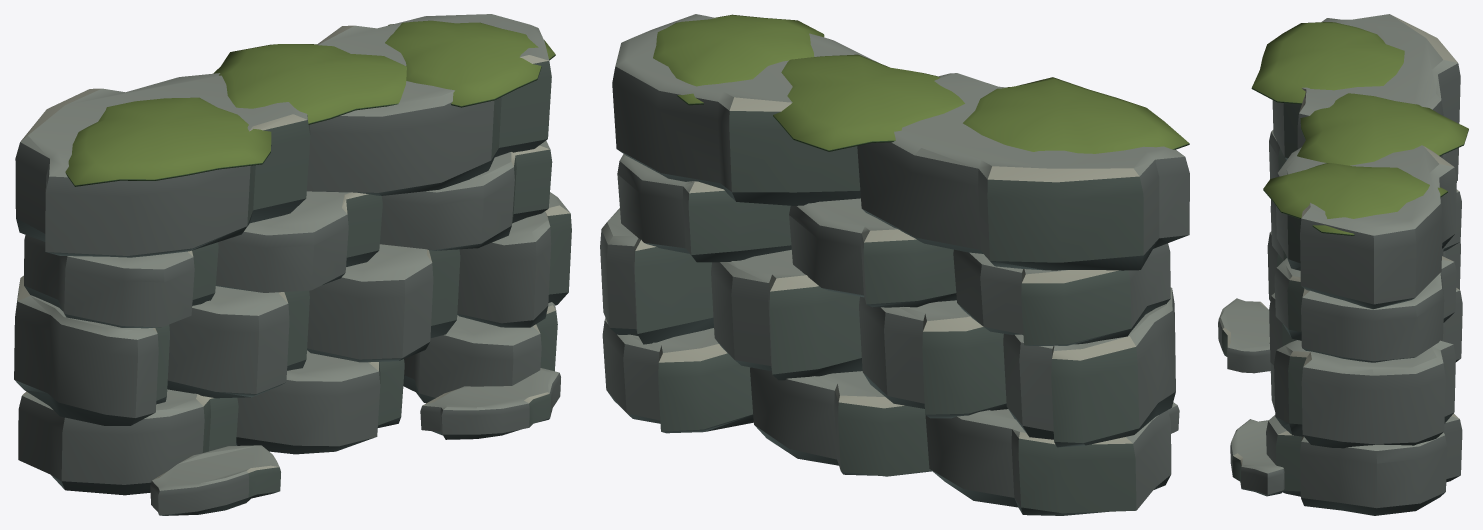
The model's file is fw_cliff_straight.glb.
The picture shows the model from 3 angles, left to right: view 1: azimuth 30°, elevation 25°; view 2: azimuth 150°, elevation 25°; view 3: azimuth 270°, elevation 25°; orthographic projection. The views are drawn at different scales.
Visible parts, largest first — view 1: body; view 2: body; view 3: body.
Boxes of the visible parts, left/top/right/bottom form: body: left=14, top=14, right=571, bottom=515; body: left=600, top=14, right=1189, bottom=515; body: left=1218, top=14, right=1468, bottom=515.
Bounding box in the file's own units: 3.36 × 2.08 × 1.58.
